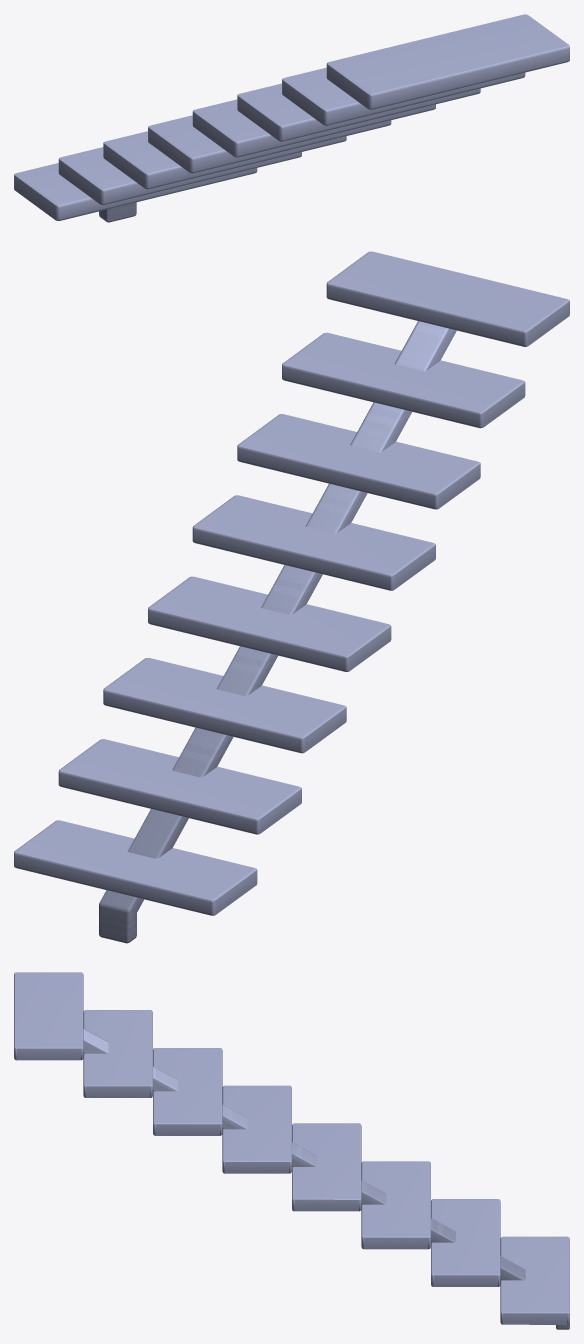
The model's file is stairs-center.glb.
3 renders of one model, top to bottom at view 1: azimuth 30°, elevation 25°; view 2: azimuth 150°, elevation 25°; view 3: azimuth 270°, elevation 25°, orthographic. The views are drawn at different scales.
Visible parts, largest first — view 1: stairs-center; view 2: stairs-center; view 3: stairs-center.
Part boxes in pixels (<box>): stairs-center: <box>14,14,569,222</box>; stairs-center: <box>14,251,569,943</box>; stairs-center: <box>14,972,569,1329</box>.
Bounding box in the file's own units: 1.3 × 2.5 × 4.
Materials: 1 (1 with a texture image).
